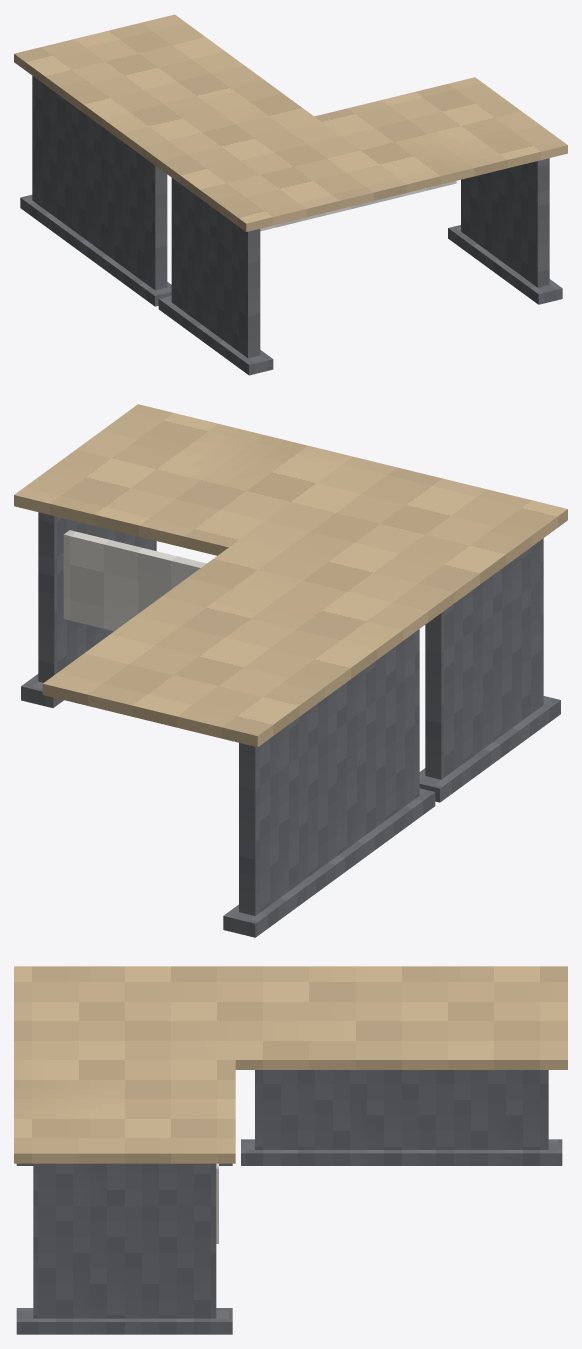
File: pixel-modern-office-desk-l-shaped-e63b68bc.glb
3 views of the same model, one above another, from view 1: azimuth 30°, elevation 25°; view 2: azimuth 150°, elevation 25°; view 3: azimuth 270°, elevation 25° (orthographic). The views are drawn at different scales.
Visible parts, largest first — view 1: desk-l-shaped; view 2: desk-l-shaped; view 3: desk-l-shaped.
Boxes of the visible parts, <box> form: desk-l-shaped: <box>14,14,567,375</box>; desk-l-shaped: <box>14,404,567,937</box>; desk-l-shaped: <box>14,966,567,1334</box>.
Bounding box in the file's own units: 1.6 × 0.73 × 2.
3 materials, 3 textured.
